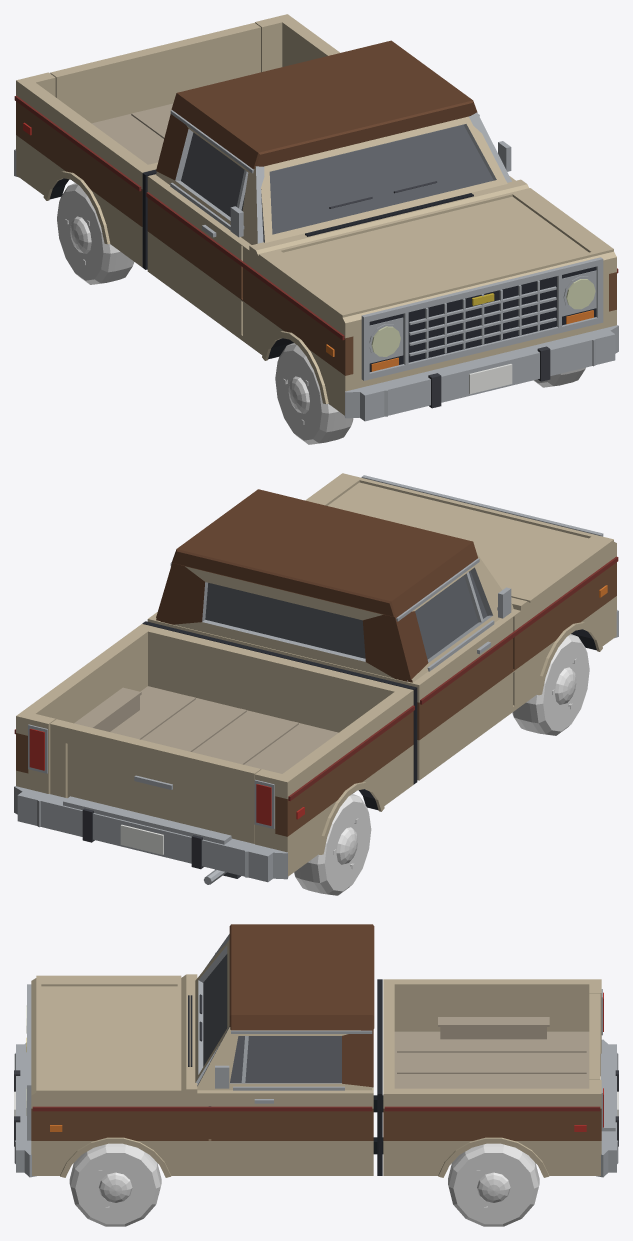
The model's file is player-pickup-textured.glb.
The picture shows the model from 3 angles, top to bottom: view 1: azimuth 30°, elevation 25°; view 2: azimuth 150°, elevation 25°; view 3: azimuth 270°, elevation 25°; orthographic projection. The views are drawn at different scales.
Visible parts, largest first — view 1: body, wheel-rl, wheel-fl; view 2: body, wheel-fl, wheel-rl; view 3: body, wheel-fr, wheel-rr.
Boxes of the visible parts, x1,y1,x2,y2 form: body: (14,14,618,421); wheel-rl: (57,183,134,284); wheel-fl: (275,343,353,444); body: (14,473,618,884); wheel-fl: (512,634,589,735); wheel-rl: (294,794,371,895); body: (14,924,618,1177); wheel-fr: (69,1143,161,1226); wheel-rr: (448,1143,539,1226).
Bounding box in the file's own units: 2.24 × 1.8 × 4.88.
